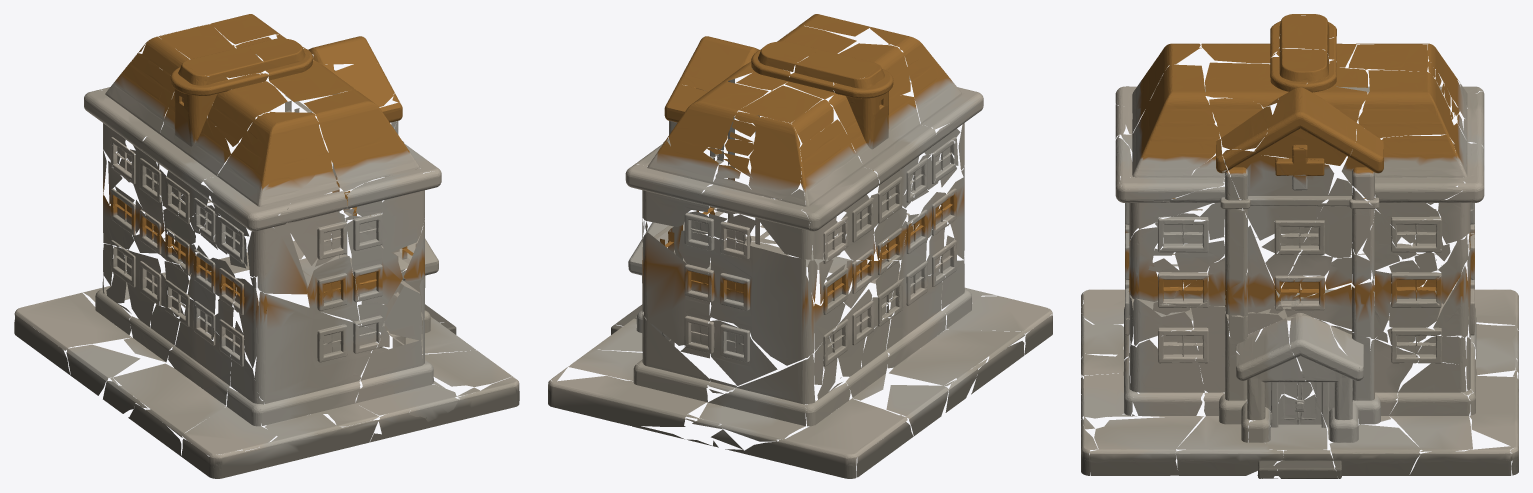
Rendered from hero-hospital.glb.
3 views of the same model, side by side, from view 1: azimuth 30°, elevation 25°; view 2: azimuth 150°, elevation 25°; view 3: azimuth 270°, elevation 25° (orthographic). The views are drawn at different scales.
Visible parts, largest first — view 1: world; view 2: world; view 3: world.
Part boxes in pixels (<box>): world: <box>14,14,519,478</box>; world: <box>548,14,1052,478</box>; world: <box>1081,14,1518,478</box>.
Bounding box in the file's own units: 2.5 × 2.32 × 2.7.
